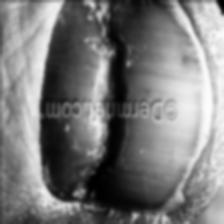Toxin: (72, 124, 116, 200), (82, 0, 124, 66)
